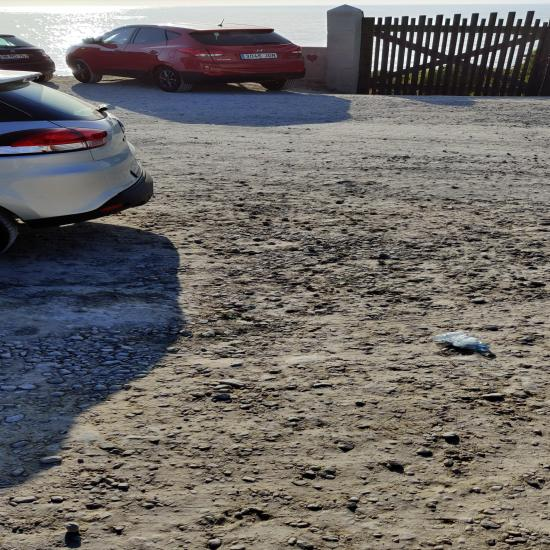Corrugated carton: (0, 184, 529, 445), (371, 437, 550, 550)
